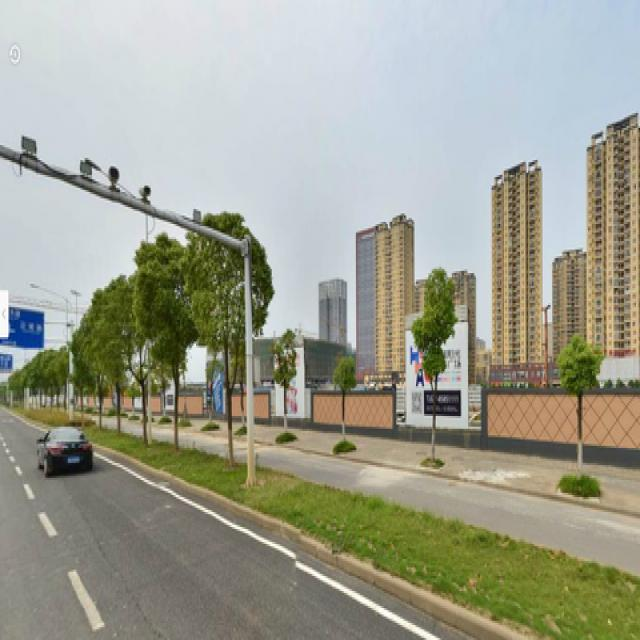cinn: (203, 216, 252, 457), (140, 239, 192, 454), (552, 329, 603, 499), (414, 273, 454, 476), (92, 286, 129, 429)
